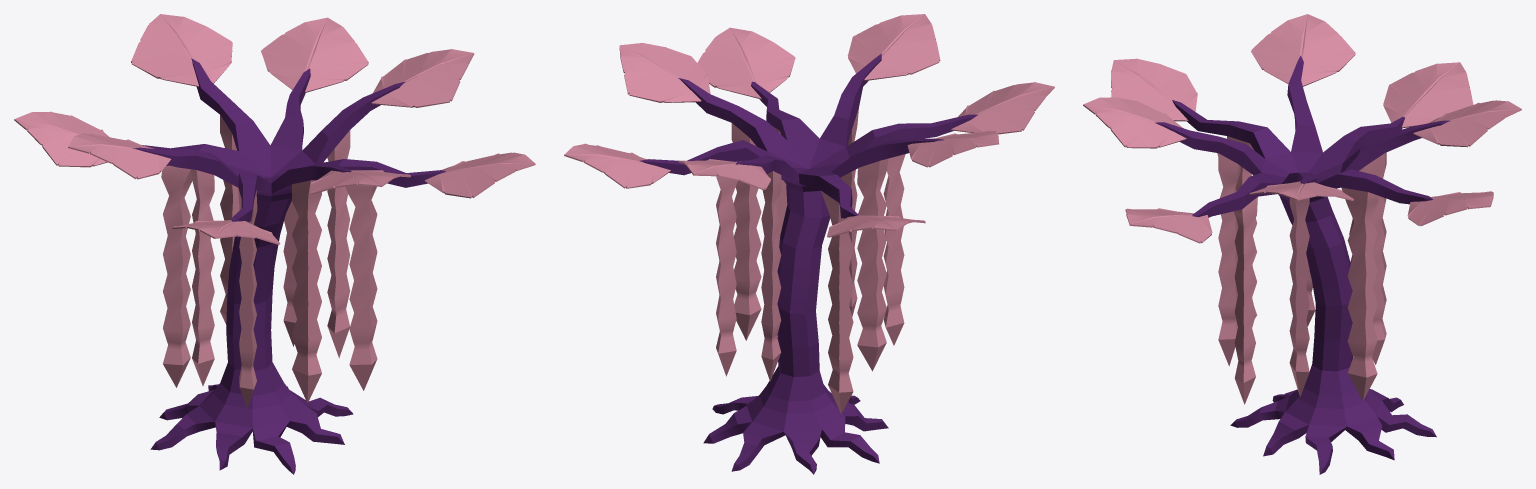
File: _CODIR_04_Tree_01.fbx
3 views of the same model, side by side, from view 1: azimuth 30°, elevation 25°; view 2: azimuth 150°, elevation 25°; view 3: azimuth 270°, elevation 25° (orthographic). The views are drawn at different scales.
Visible parts, largest first — view 1: polySurface146, polySurface144, polySurface122, polySurface124, polySurface138, polySurface145, polySurface127, polySurface140, polySurface134, polySurface126, polySurface141, polySurface131 (+5 smaller); view 2: polySurface146, polySurface140, polySurface131, polySurface123, polySurface127, polySurface138, polySurface134, polySurface136, polySurface132, polySurface125, polySurface141, polySurface122 (+4 smaller); view 3: polySurface146, polySurface136, polySurface130, polySurface126, polySurface125, polySurface145, polySurface134, polySurface123, polySurface144, polySurface124, polySurface132, polySurface131 (+2 smaller).
Boxes of the visible parts, box(x1,y1,x2,y2) form: polySurface146: box(133, 58, 446, 474); polySurface144: box(292, 180, 321, 403); polySurface122: box(261, 17, 368, 92); polySurface124: box(131, 14, 232, 86); polySurface138: box(161, 165, 192, 387); polySurface145: box(345, 184, 377, 390); polySurface127: box(371, 49, 474, 107); polySurface140: box(191, 169, 214, 385); polySurface134: box(327, 130, 350, 358); polySurface126: box(14, 111, 109, 167); polySurface141: box(238, 188, 257, 408); polySurface131: box(425, 152, 535, 198); polySurface146: box(640, 53, 977, 474); polySurface140: box(857, 158, 888, 371); polySurface131: box(697, 27, 795, 99); polySurface123: box(847, 14, 940, 80); polySurface127: box(619, 42, 710, 102); polySurface138: box(820, 190, 853, 413); polySurface134: box(731, 123, 761, 340); polySurface136: box(716, 161, 740, 376); polySurface132: box(761, 171, 781, 381); polySurface125: box(951, 82, 1054, 134); polySurface141: box(883, 154, 905, 345); polySurface122: box(564, 143, 670, 188); polySurface146: box(1155, 55, 1450, 474); polySurface136: box(1341, 187, 1378, 400); polySurface130: box(1251, 14, 1355, 86); polySurface126: box(1383, 62, 1473, 128); polySurface125: box(1111, 58, 1197, 121); polySurface145: box(1233, 197, 1257, 404); polySurface134: box(1289, 198, 1309, 396); polySurface123: box(1083, 97, 1186, 148); polySurface144: box(1217, 153, 1240, 366); polySurface124: box(1413, 100, 1521, 147); polySurface132: box(1364, 152, 1386, 364); polySurface131: box(1125, 208, 1212, 243).
Bounding box in the file's own units: 48.07 × 39.4 × 48.07.
